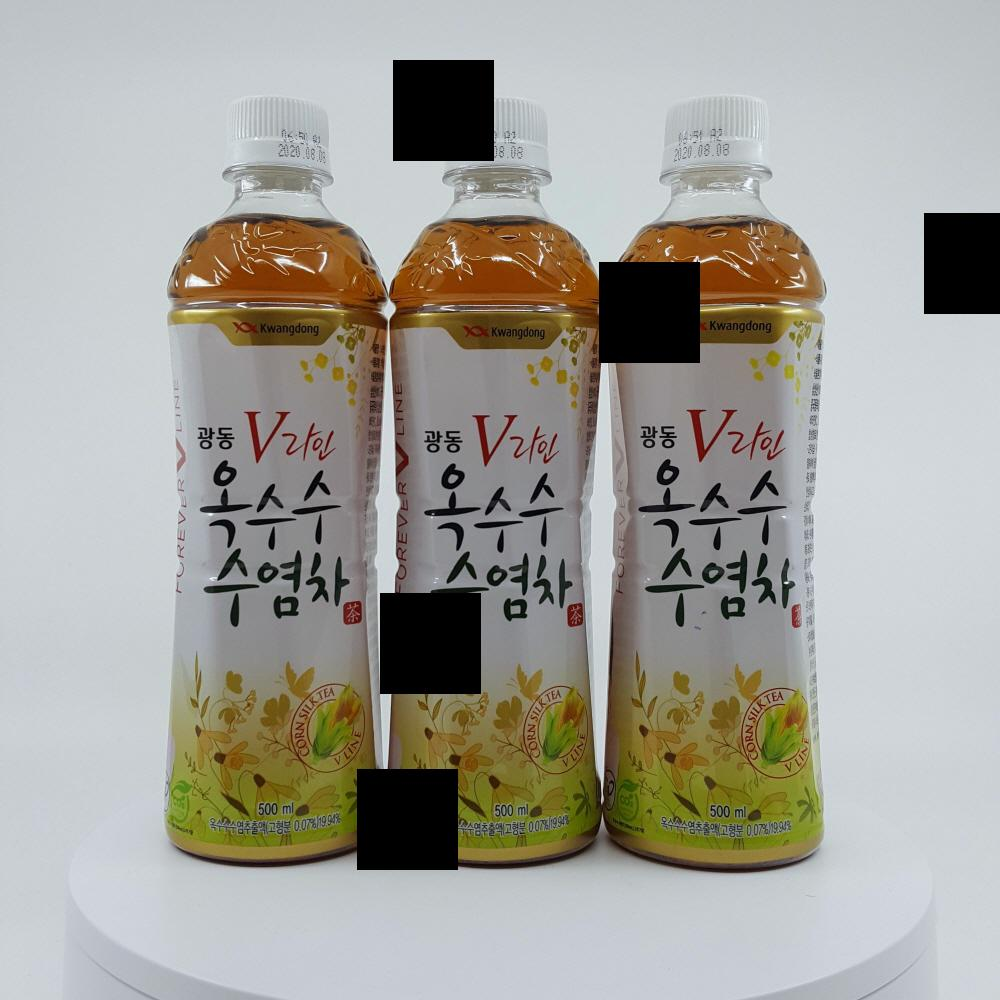oksususuyeomcha: (603, 91, 834, 871), (161, 95, 382, 860), (388, 95, 600, 873)
